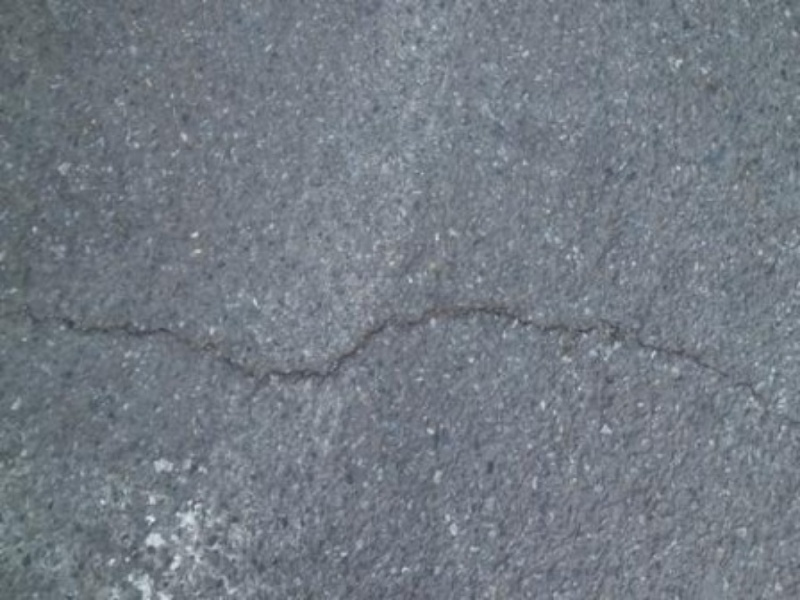crack: (10, 267, 788, 425)
